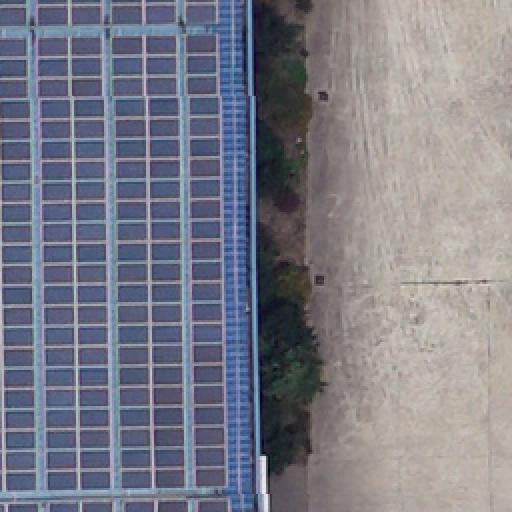solar-panel: (0, 0, 233, 512)
